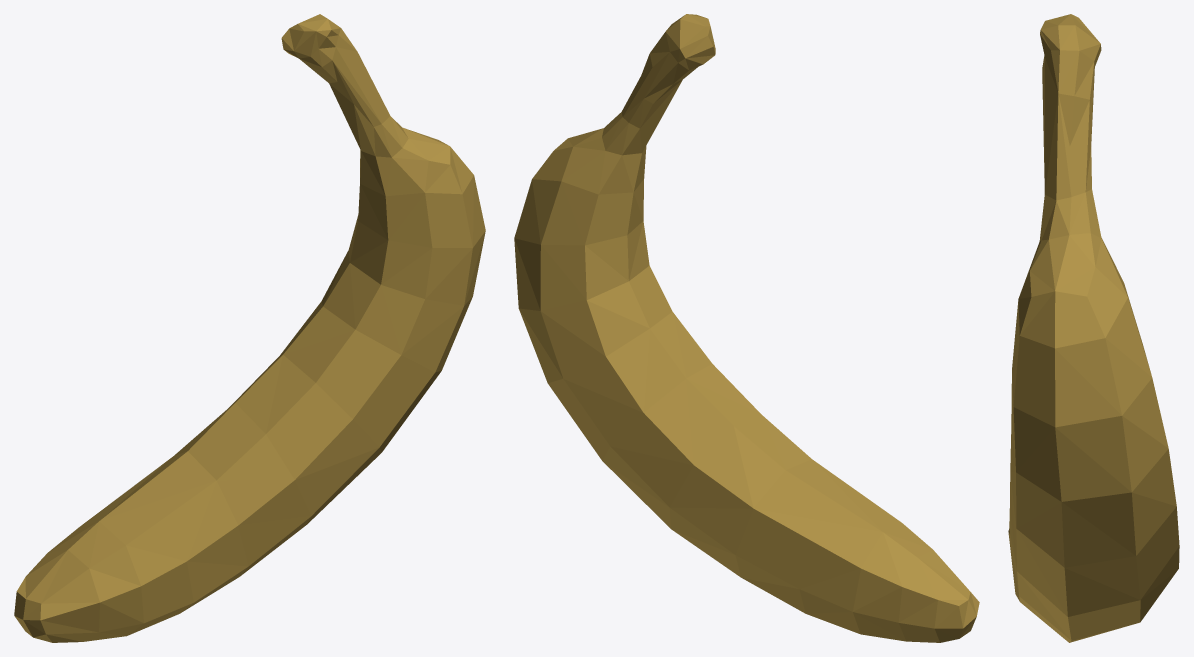
The model's file is banana.glb.
3 renders of one model, left to right at view 1: azimuth 30°, elevation 25°; view 2: azimuth 150°, elevation 25°; view 3: azimuth 270°, elevation 25°, orthographic. The views are drawn at different scales.
Parts seen in each view (by area): view 1: Banana; view 2: Banana; view 3: Banana.
Part boxes in pixels (x1,y1,x2,y2): Banana: (14,14,485,642); Banana: (514,14,979,642); Banana: (1008,14,1179,642).
Size of the model in its own units: 1.18 by 1.4 by 0.3094.
